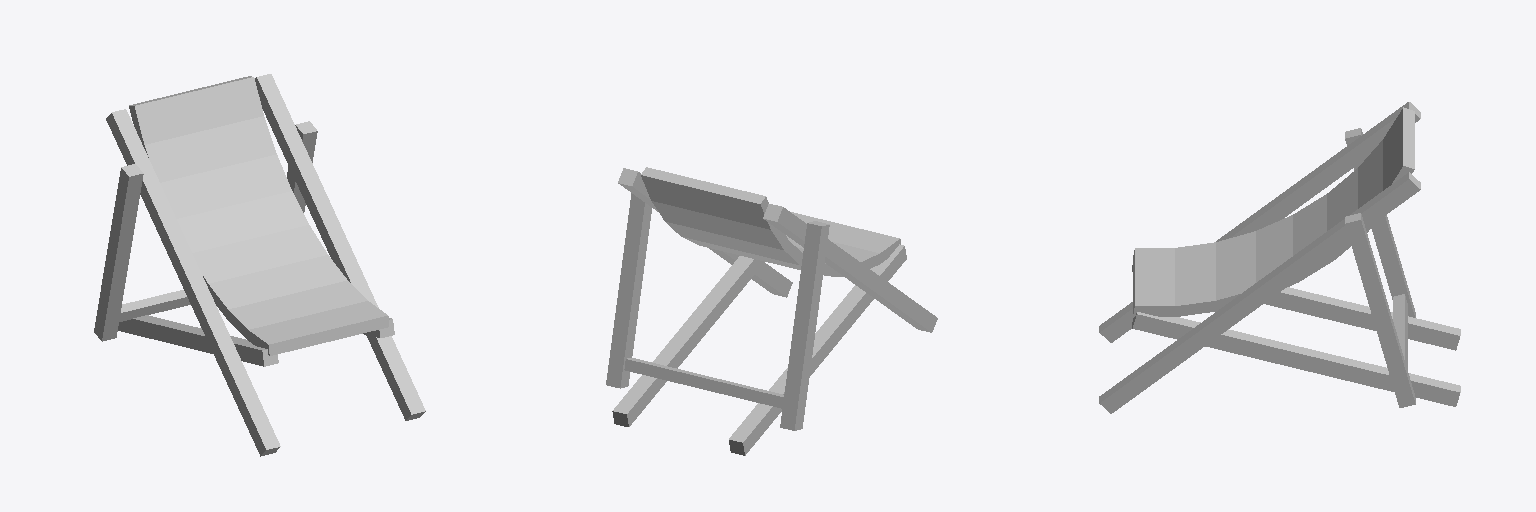
File: Beach Chair .obj
The picture shows the model from 3 angles: view 1: azimuth 30°, elevation 25°; view 2: azimuth 150°, elevation 25°; view 3: azimuth 270°, elevation 25°; orthographic projection.
Parts seen in each view (by area): view 1: Beach_Chair; view 2: Beach_Chair; view 3: Beach_Chair.
Boxes of the visible parts, box(x1,y1,x2,y2) form: Beach_Chair: box(94, 74, 425, 456); Beach_Chair: box(606, 167, 937, 455); Beach_Chair: box(1099, 102, 1460, 413).
Bounding box in the file's own units: 130 × 157 × 215.